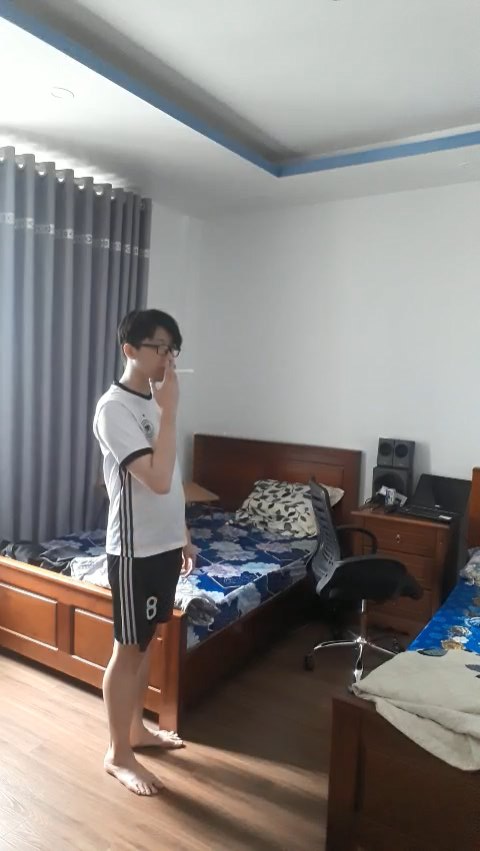cigarette: (174, 366, 197, 375)
person: (86, 297, 201, 803)
